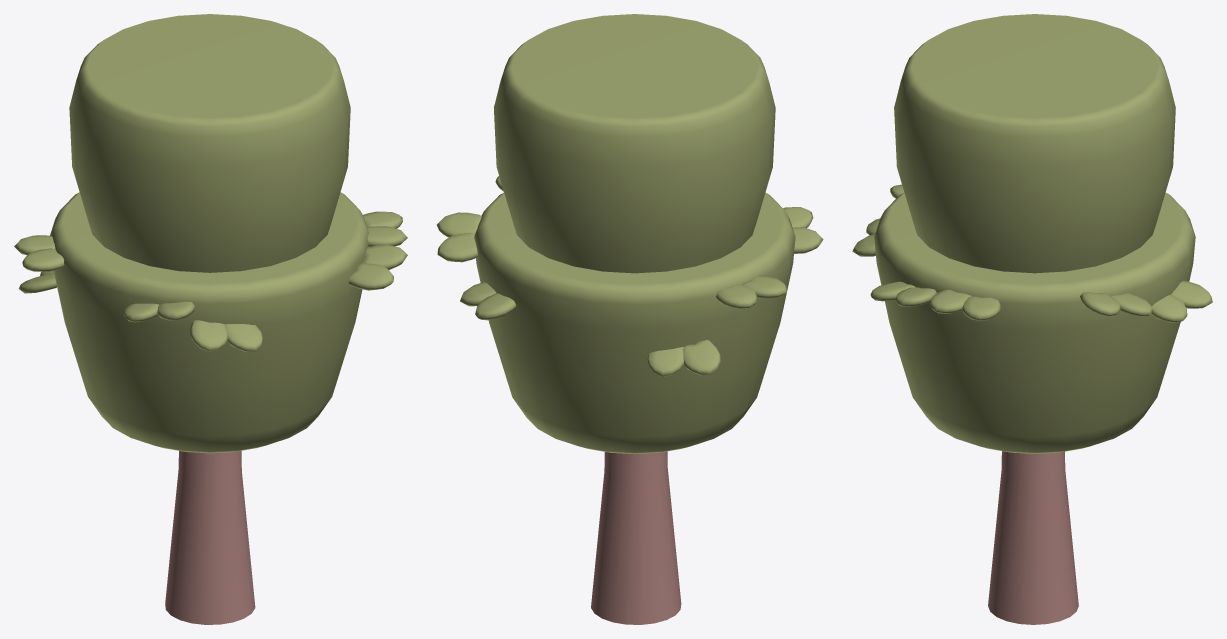
The model's file is tree.fbx.
The picture shows the model from 3 angles, left to right: view 1: azimuth 30°, elevation 25°; view 2: azimuth 150°, elevation 25°; view 3: azimuth 270°, elevation 25°; orthographic projection.
Parts seen in each view (by area): view 1: pCylinder2, pCylinder1, pCylinder3, pCube21, pCube14, pCube19, pCube15, pCube20, pCube18; view 2: pCylinder2, pCylinder1, pCylinder3, pCube18, pCube16, pCube19, pCube17, pCube20; view 3: pCylinder2, pCylinder1, pCylinder3, pCube17, pCube15, pCube16, pCube14, pCube21.
Part boxes in pixels (left/top/right/bottom): pCylinder2: left=69, top=14, right=350, bottom=272; pCylinder1: left=50, top=192, right=368, bottom=453; pCylinder3: left=165, top=451, right=255, bottom=624; pCube21: left=190, top=320, right=263, bottom=351; pCube14: left=348, top=244, right=407, bottom=290; pCube19: left=14, top=235, right=64, bottom=271; pCube15: left=363, top=211, right=407, bottom=246; pCube20: left=124, top=301, right=194, bottom=322; pCube18: left=18, top=270, right=56, bottom=293; pCylinder2: left=494, top=14, right=775, bottom=273; pCylinder1: left=474, top=192, right=795, bottom=454; pCylinder3: left=591, top=451, right=681, bottom=624; pCube18: left=647, top=340, right=720, bottom=376; pCube16: left=436, top=212, right=481, bottom=262; pCube19: left=716, top=275, right=787, bottom=308; pCube17: left=460, top=282, right=516, bottom=320; pCube20: left=783, top=207, right=823, bottom=253; pCylinder2: left=894, top=14, right=1175, bottom=273; pCylinder1: left=874, top=192, right=1195, bottom=453; pCylinder3: left=988, top=451, right=1078, bottom=624; pCube17: left=1151, top=280, right=1212, bottom=322; pCube15: left=930, top=289, right=1001, bottom=320; pCube16: left=1080, top=292, right=1152, bottom=316; pCube14: left=870, top=281, right=936, bottom=306; pCube21: left=852, top=218, right=879, bottom=256.
Bounding box in the file's own units: 260 × 401 × 243.
